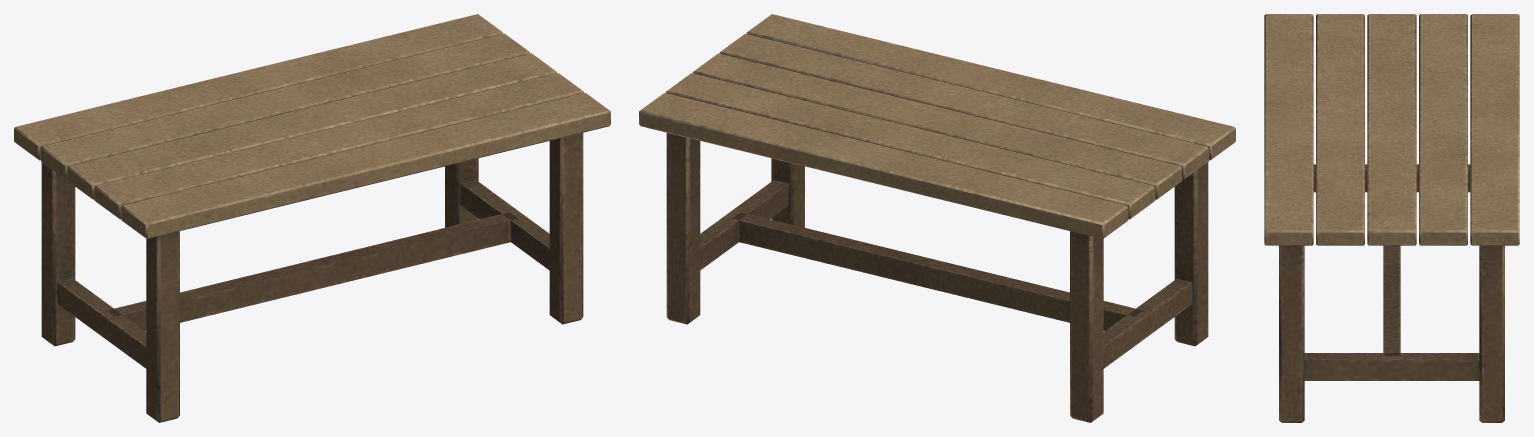
The model's file is mesa.glb.
The picture shows the model from 3 angles, left to right: view 1: azimuth 30°, elevation 25°; view 2: azimuth 150°, elevation 25°; view 3: azimuth 270°, elevation 25°; orthographic projection. The views are drawn at different scales.
Visible parts, largest first — view 1: mesa; view 2: mesa; view 3: mesa.
Part boxes in pixels (x1,y1,x2,y2): mesa: (14, 14, 610, 422); mesa: (639, 14, 1235, 422); mesa: (1264, 14, 1519, 422).
Size of the model in its own units: 1.8 by 0.78 by 0.892.
1 material, 1 textured.
